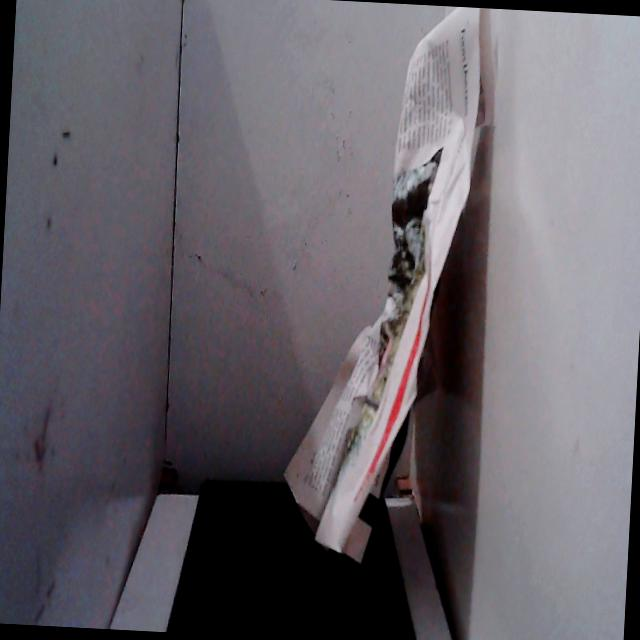papel: (276, 0, 502, 579)
